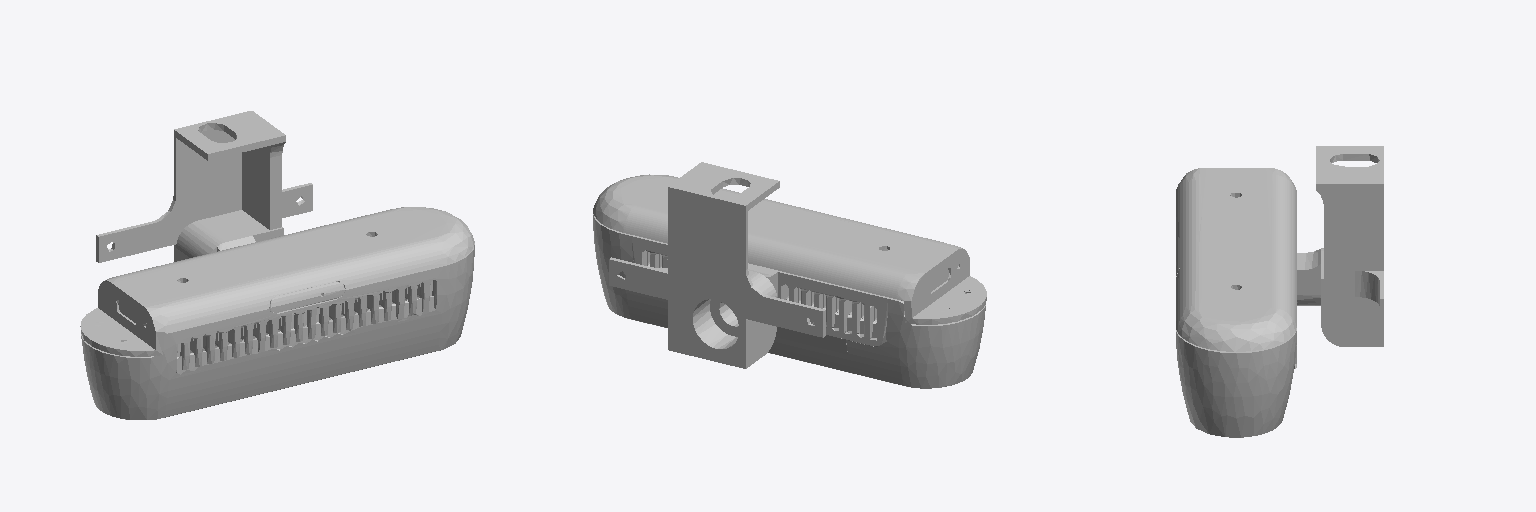
The model's file is camera.obj.
3 views of the same model, side by side, from view 1: azimuth 30°, elevation 25°; view 2: azimuth 150°, elevation 25°; view 3: azimuth 270°, elevation 25° (orthographic).
Visible parts, largest first — view 1: shape0-lib; view 2: shape0-lib; view 3: shape0-lib.
Part boxes in pixels (bbox=[...]): shape0-lib: bbox=[80, 111, 474, 419]; shape0-lib: bbox=[593, 162, 986, 388]; shape0-lib: bbox=[1176, 146, 1383, 437].
Size of the model in its own units: 0.0899 by 0.0435 by 0.043.